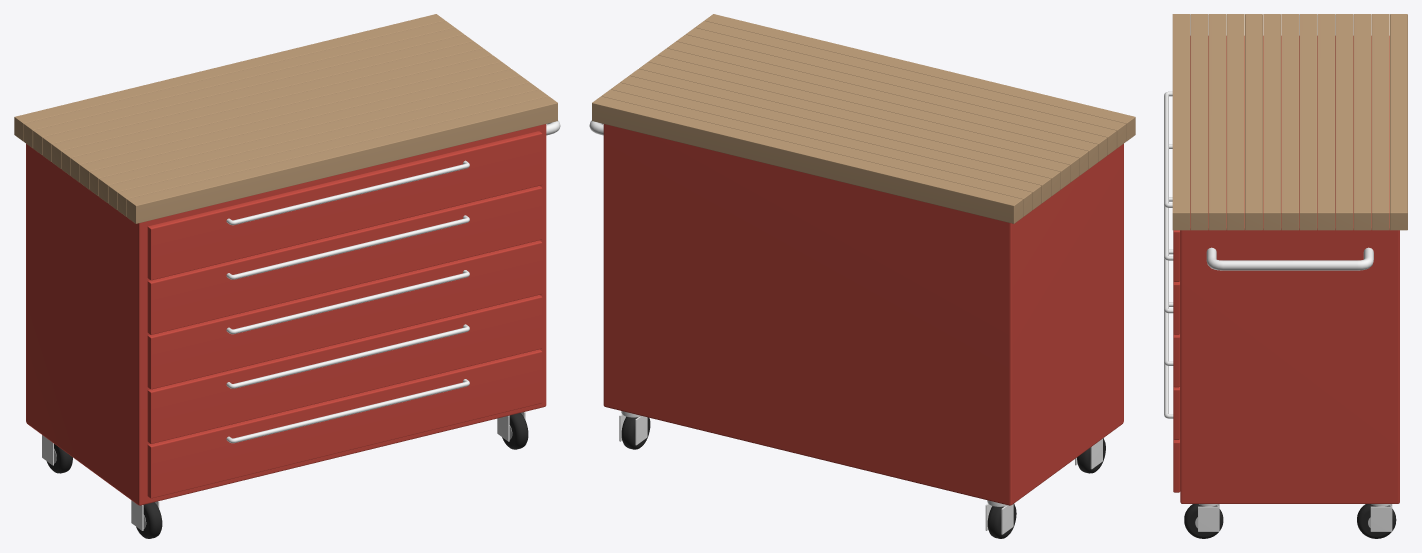
The model's file is bench_mobile.glb.
3 views of the same model, side by side, from view 1: azimuth 30°, elevation 25°; view 2: azimuth 150°, elevation 25°; view 3: azimuth 270°, elevation 25° (orthographic). The views are drawn at different scales.
Visible parts, largest first — view 1: SM_bench_mobile; view 2: SM_bench_mobile; view 3: SM_bench_mobile.
Part boxes in pixels (x1,y1,x2,y2): SM_bench_mobile: (14,14,560,538); SM_bench_mobile: (589,14,1135,538); SM_bench_mobile: (1164,14,1407,538).
Bounding box in the file's own units: 1.27 × 0.95 × 0.6206.
